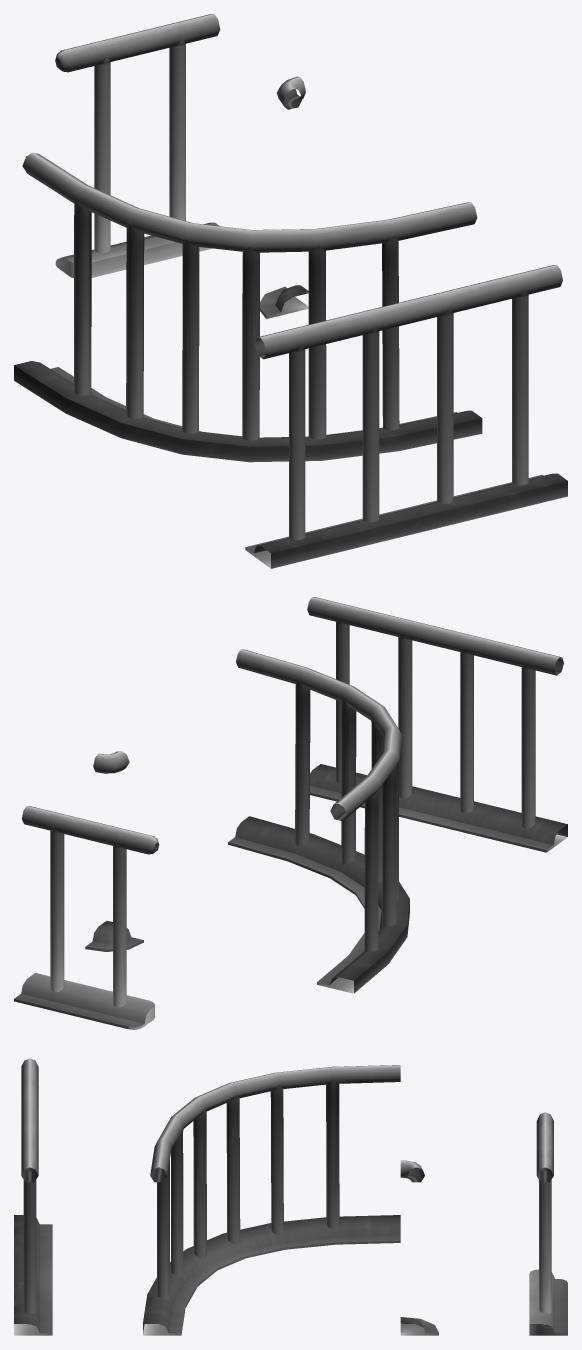
Rendered from PipeAtlas.glb.
The picture shows the model from 3 angles, top to bottom: view 1: azimuth 30°, elevation 25°; view 2: azimuth 150°, elevation 25°; view 3: azimuth 270°, elevation 25°; orthographic projection. The views are drawn at different scales.
Parts seen in each view (by area): view 1: RailingOuterCorner, RailingForward, RailingEndLeft, RailingInnerCorner; view 2: RailingOuterCorner, RailingForward, RailingEndLeft, RailingInnerCorner; view 3: RailingOuterCorner, RailingForward, RailingEndLeft, RailingInnerCorner.
Boxes of the visible parts, bbox=[...] form: RailingOuterCorner: bbox=[14, 152, 482, 462]; RailingForward: bbox=[245, 265, 567, 568]; RailingEndLeft: bbox=[55, 14, 220, 278]; RailingInnerCorner: bbox=[260, 76, 308, 318]; RailingOuterCorner: bbox=[228, 649, 409, 993]; RailingForward: bbox=[307, 597, 567, 852]; RailingEndLeft: bbox=[14, 806, 159, 1029]; RailingInnerCorner: bbox=[85, 751, 143, 951]; RailingOuterCorner: bbox=[143, 1065, 400, 1335]; RailingForward: bbox=[14, 1058, 52, 1335]; RailingEndLeft: bbox=[529, 1112, 567, 1335]; RailingInnerCorner: bbox=[400, 1160, 438, 1335].
Size of the model in its own units: 2 by 1.44 by 4.3.
Materials: 1 (1 with a texture image).
